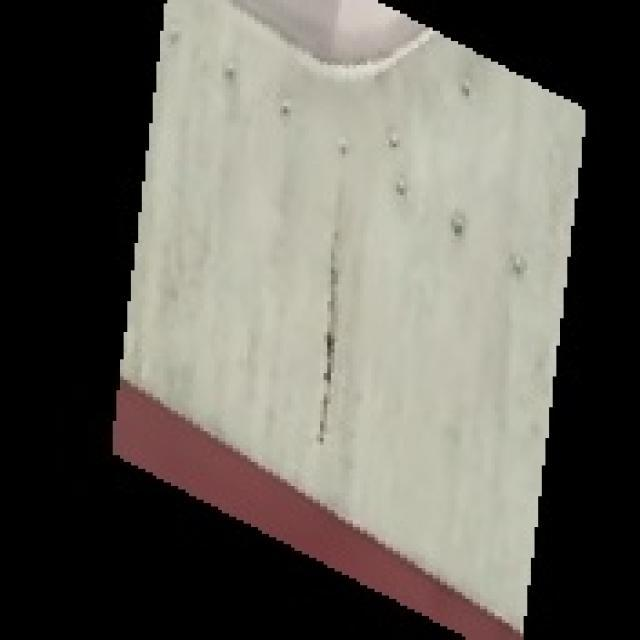crack: (310, 176, 358, 464)
